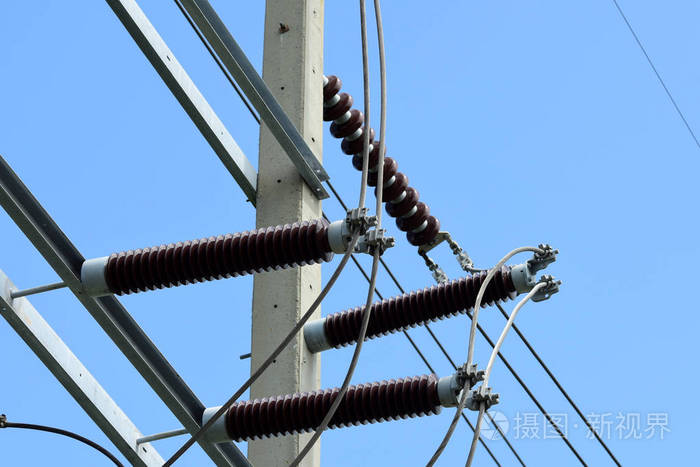insulator: (323, 74, 442, 245)
